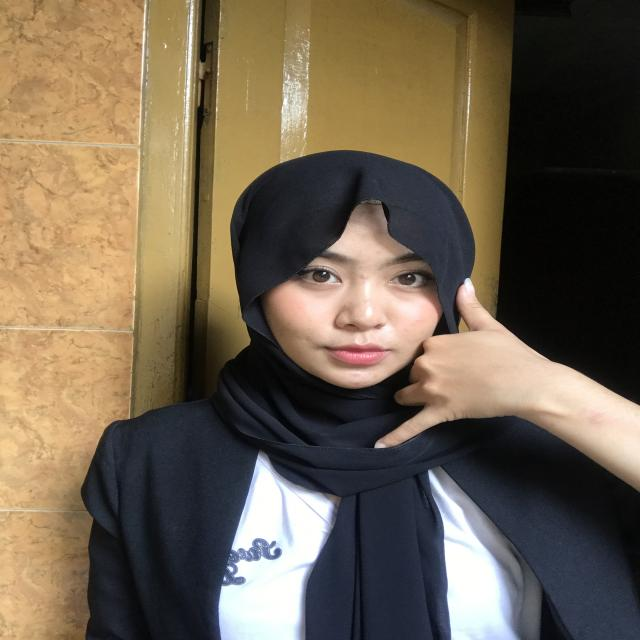telpon: (370, 263, 540, 454)
